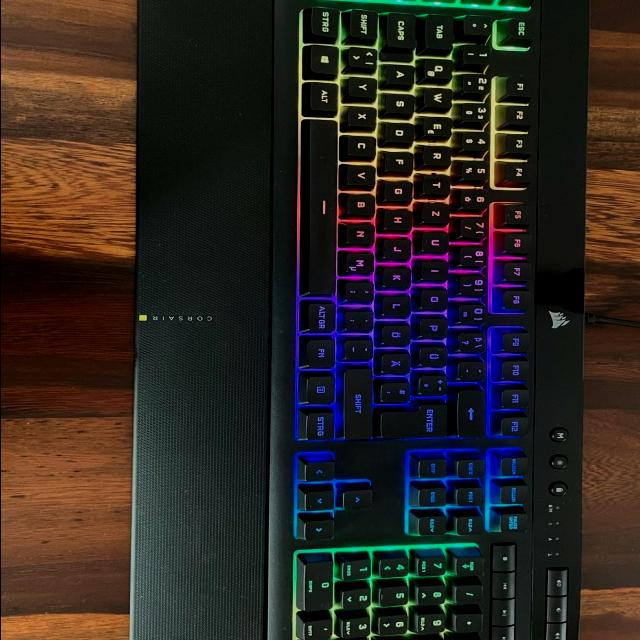0: (457, 302, 487, 324)
1: (462, 42, 492, 64)
2: (461, 72, 491, 94)
3: (460, 101, 492, 123)
4: (460, 130, 493, 152)
5: (459, 158, 492, 181)
6: (460, 187, 490, 211)
7: (459, 216, 490, 238)
8: (458, 244, 490, 267)
9: (457, 273, 489, 296)
a: (386, 63, 418, 84)
accent: (457, 359, 489, 381)
ae: (381, 351, 413, 373)
alt-left: (309, 80, 342, 114)
altgr-right: (304, 300, 338, 332)
b: (347, 192, 379, 216)
c: (347, 133, 379, 157)
caret: (464, 14, 494, 36)
comma: (345, 280, 377, 302)
d: (385, 121, 417, 143)
del: (457, 388, 487, 438)
e: (423, 115, 455, 138)
enter: (379, 400, 451, 437)
f: (385, 150, 416, 172)
g: (384, 180, 415, 202)
h: (384, 208, 415, 230)
hash: (381, 380, 412, 402)
i: (422, 259, 451, 281)
j: (383, 237, 414, 259)
k: (383, 265, 413, 288)
keyboard: (265, 0, 542, 640)
l: (383, 294, 413, 316)
less: (348, 45, 380, 69)
m: (344, 250, 376, 275)
minus: (345, 338, 376, 360)
n: (346, 221, 378, 245)
o: (421, 287, 450, 310)
oe: (382, 322, 413, 344)
p: (421, 316, 451, 339)
plus: (419, 373, 450, 395)
point: (346, 309, 376, 331)
q: (424, 57, 456, 79)
r: (424, 144, 454, 166)
s: (386, 92, 418, 114)
shift-left: (349, 7, 381, 40)
shift-lock: (387, 10, 419, 50)
shift-right: (344, 366, 374, 440)
space: (306, 117, 340, 295)
ss: (457, 331, 488, 353)
strg-left: (308, 5, 342, 39)
strg-right: (303, 409, 337, 441)
t: (424, 173, 454, 196)
tab: (424, 13, 456, 51)
u: (423, 230, 452, 252)
ue: (419, 345, 450, 367)
v: (347, 163, 379, 186)
w: (424, 86, 456, 108)
x: (348, 105, 379, 128)
y: (349, 75, 380, 97)
z: (423, 202, 453, 224)
